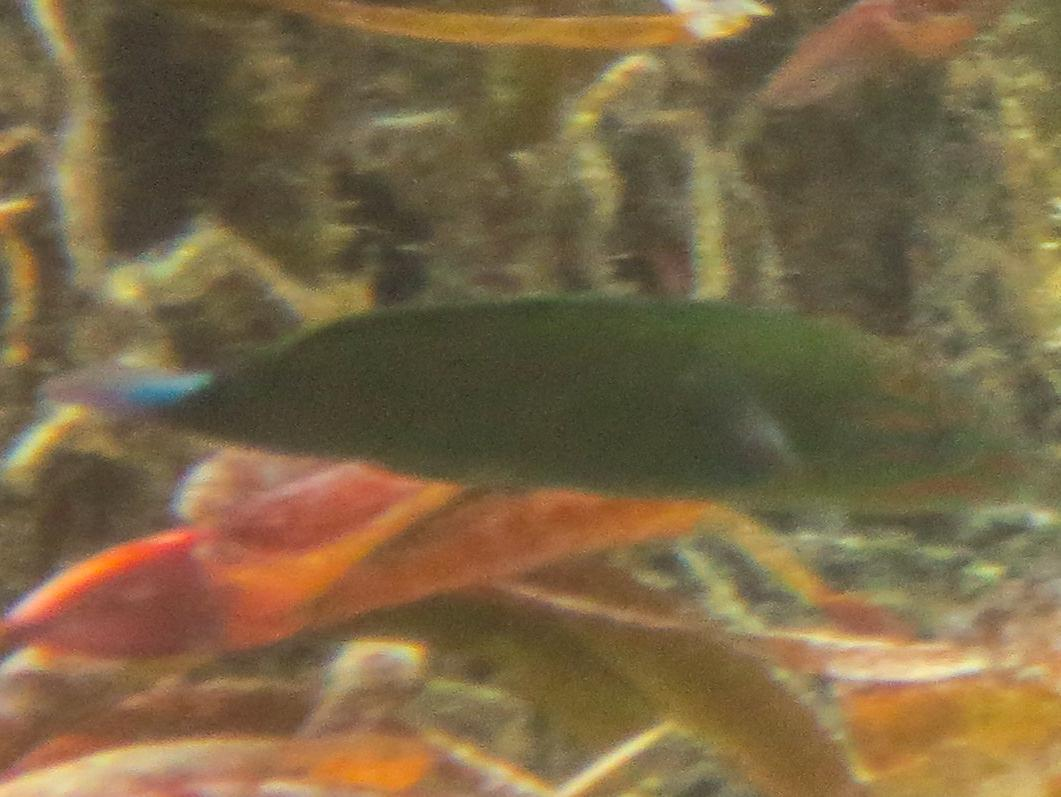Fish: (16, 282, 1032, 554)
